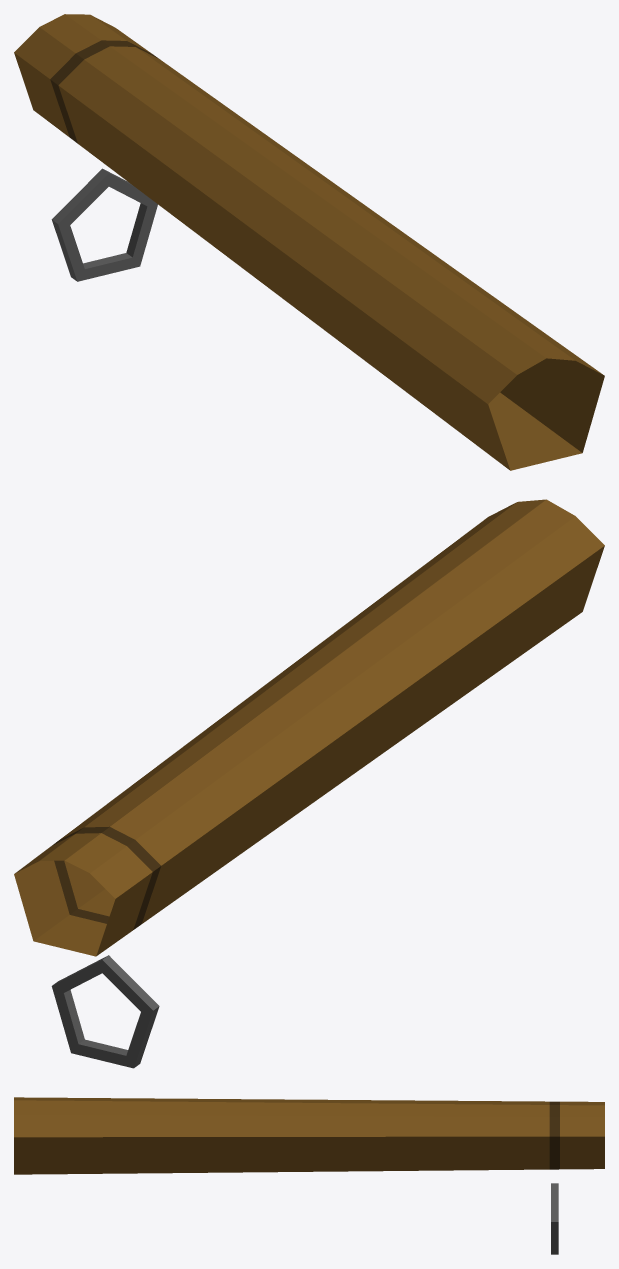
The model's file is Rodpart_02.fbx.
3 views of the same model, one above another, from view 1: azimuth 30°, elevation 25°; view 2: azimuth 150°, elevation 25°; view 3: azimuth 270°, elevation 25° (orthographic). The views are drawn at different scales.
Visible parts, largest first — view 1: Rodpart_02; view 2: Rodpart_02; view 3: Rodpart_02.
Boxes of the visible parts, box(x1,y1,x2,y2) form: Rodpart_02: box(14, 14, 604, 470); Rodpart_02: box(14, 499, 604, 1068); Rodpart_02: box(14, 1097, 604, 1254).
Size of the model in its own units: 2.77 by 5.35 by 19.76.
